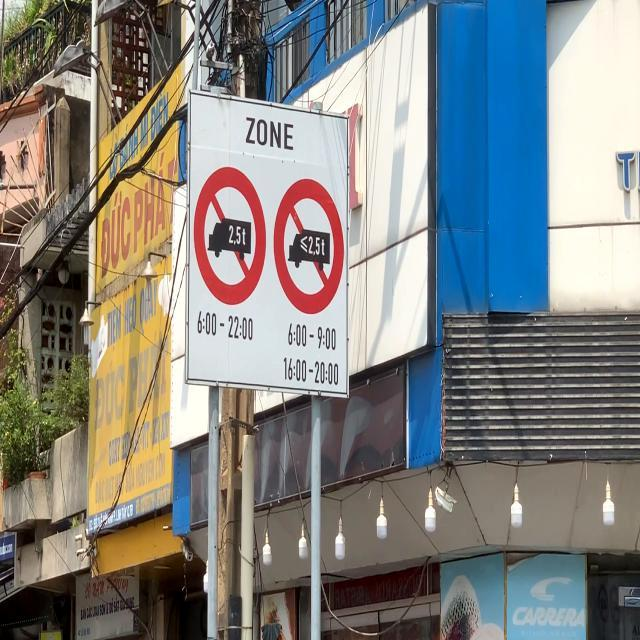Cam xe tai tren 2_5: (193, 166, 267, 306), (273, 178, 345, 316)
